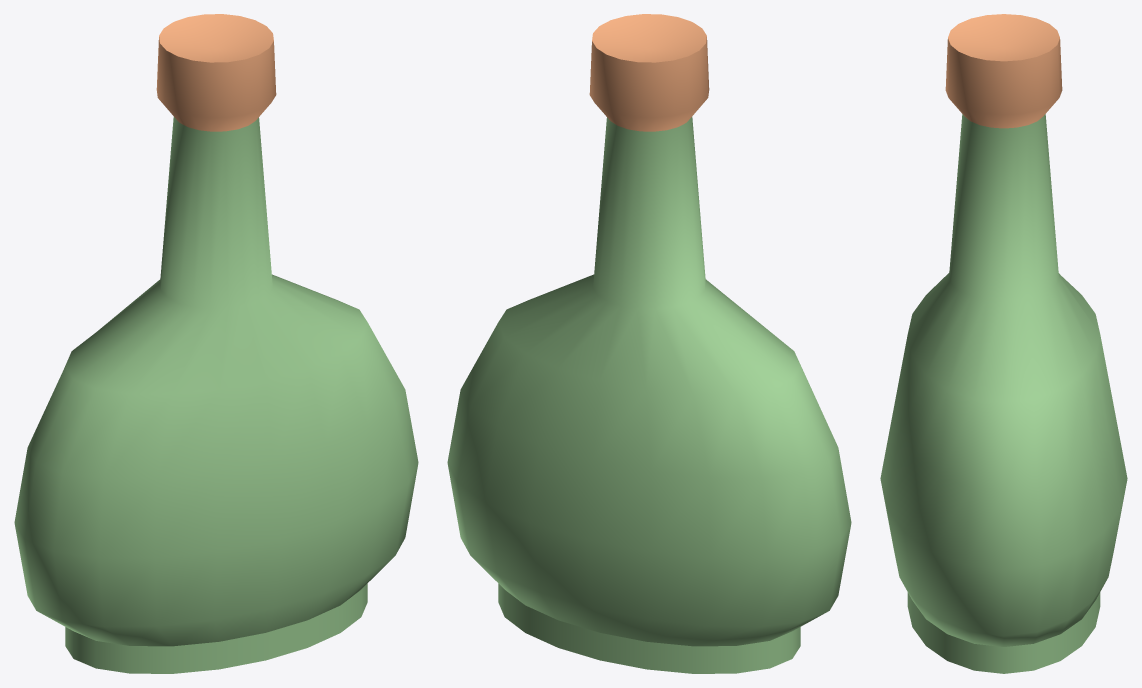
Rendered from BAR_LiqourBottle11_Body.fbx.
3 views of the same model, side by side, from view 1: azimuth 30°, elevation 25°; view 2: azimuth 150°, elevation 25°; view 3: azimuth 270°, elevation 25° (orthographic). The views are drawn at different scales.
Parts seen in each view (by area): view 1: Bottle11_Body; view 2: Bottle11_Body; view 3: Bottle11_Body.
Part boxes in pixels (x1,y1,x2,y2): Bottle11_Body: (14,14,418,673); Bottle11_Body: (447,14,851,673); Bottle11_Body: (880,14,1127,673).
Bounding box in the file's own units: 16.72 × 24.41 × 9.62.
